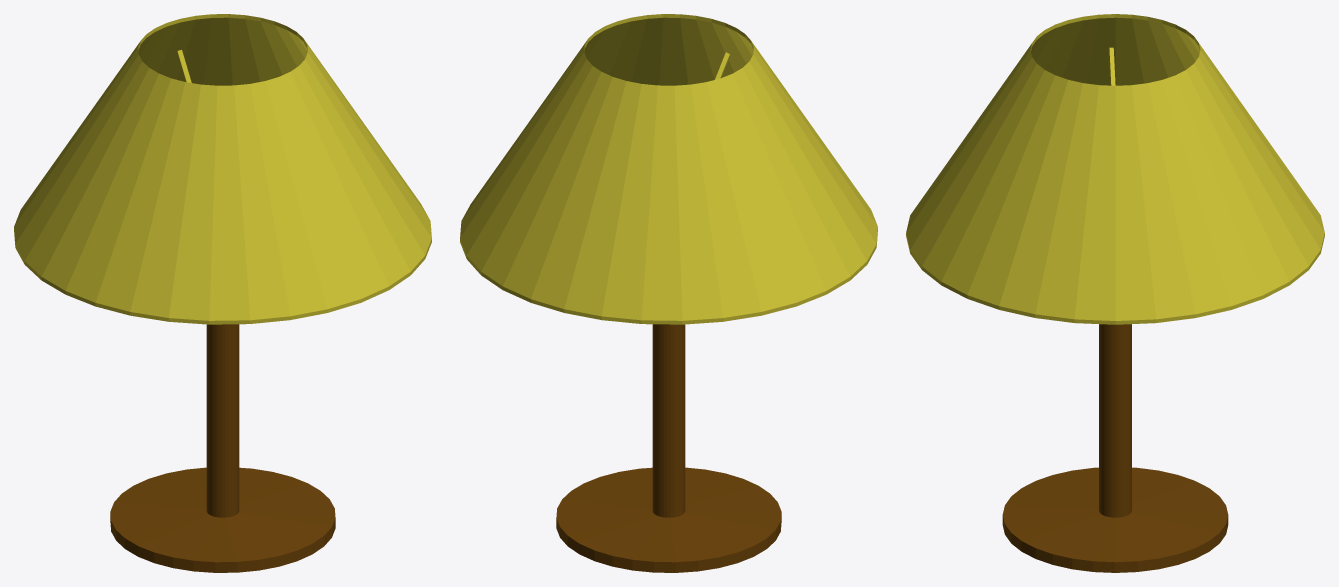
File: Lamp.fbx
3 views of the same model, side by side, from view 1: azimuth 30°, elevation 25°; view 2: azimuth 150°, elevation 25°; view 3: azimuth 270°, elevation 25° (orthographic).
Visible parts, largest first — view 1: Lampa; view 2: Lampa; view 3: Lampa.
Boxes of the visible parts, bbox=[...] form: Lampa: bbox=[14, 14, 431, 572]; Lampa: bbox=[460, 14, 877, 572]; Lampa: bbox=[906, 14, 1324, 572].
Size of the model in its own units: 13.62 by 17.07 by 13.62.
